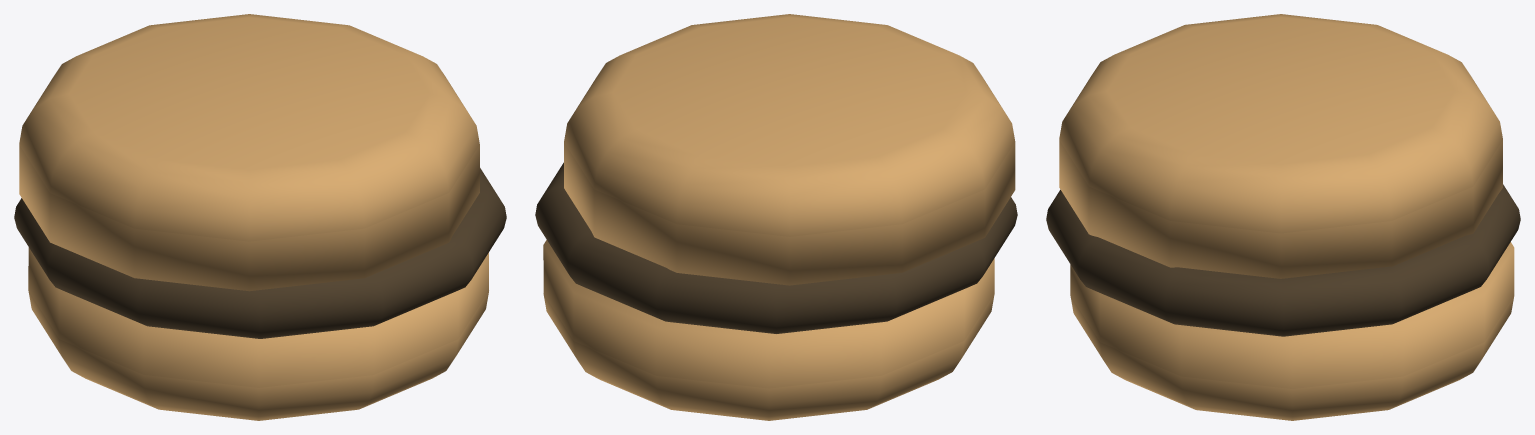
File: Burger.dae
The picture shows the model from 3 angles, left to right: view 1: azimuth 30°, elevation 25°; view 2: azimuth 150°, elevation 25°; view 3: azimuth 270°, elevation 25°; orthographic projection. The views are drawn at different scales.
Parts seen in each view (by area): view 1: chamfer (×3), cylinder (×2); view 2: chamfer (×3), cylinder (×2); view 3: chamfer (×3), cylinder (×2).
Part boxes in pixels (left/top/right/bottom): chamfer (×3): left=14, top=14, right=506, bottom=420; cylinder (×2): left=19, top=144, right=488, bottom=387; chamfer (×3): left=535, top=14, right=1017, bottom=420; cylinder (×2): left=543, top=142, right=1015, bottom=388; chamfer (×3): left=1046, top=14, right=1520, bottom=420; cylinder (×2): left=1059, top=140, right=1514, bottom=388.
Size of the model in its own units: 5.35 by 5.35 by 3.06.
